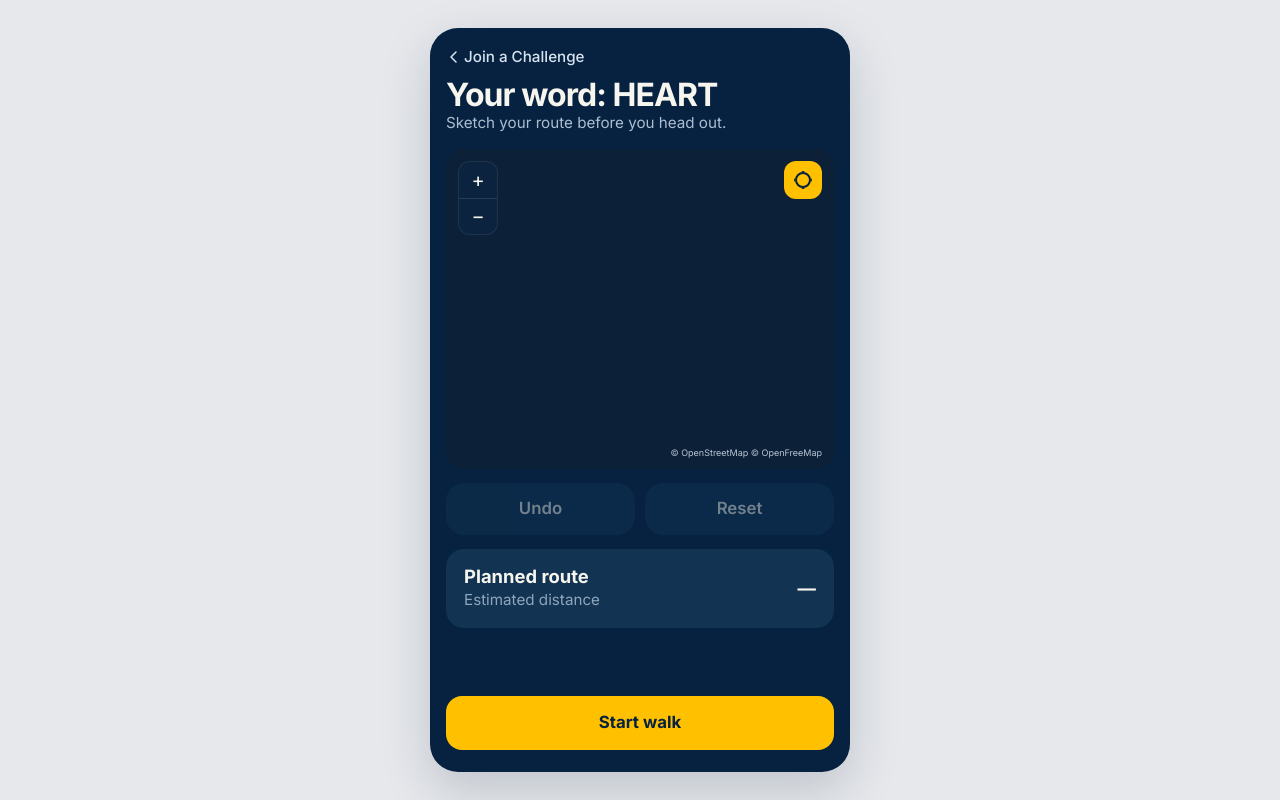
it: PlanRoute › links back to the challenge list
The image size is (1280, 800).
Click the link "Join a Challenge" at (515, 57), box [446,46,584,69]
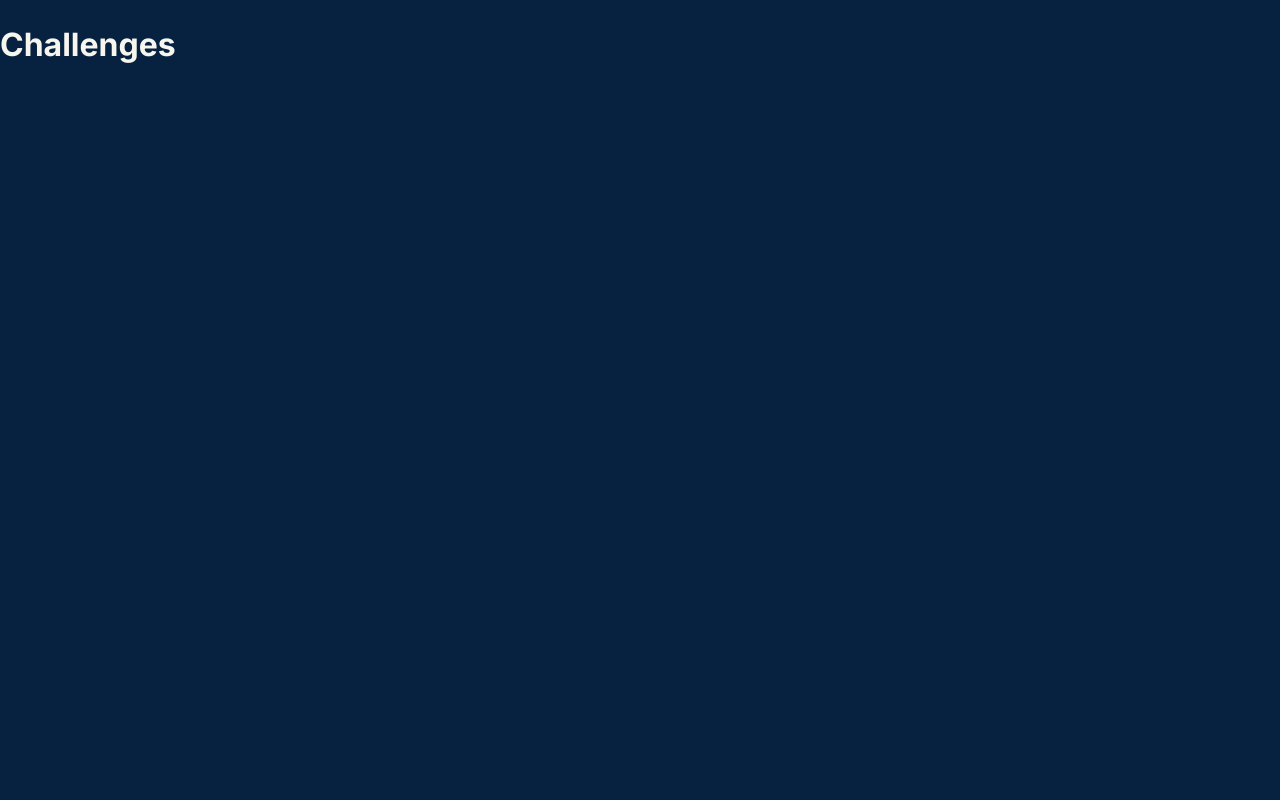
Check: the heading "Challenges" is shown, box [0,25,176,64]
